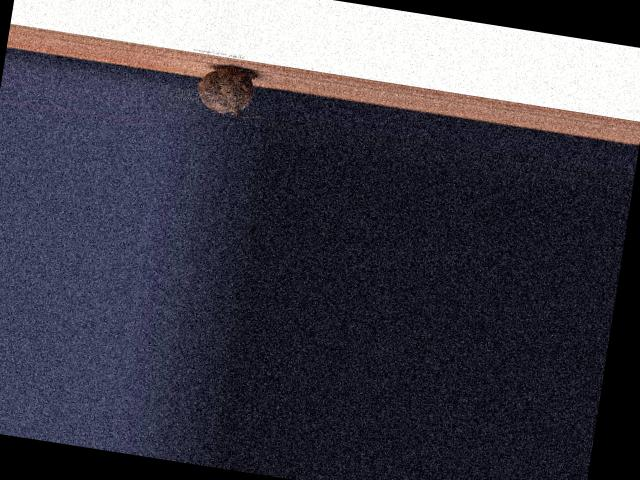beet: (194, 62, 273, 121)
